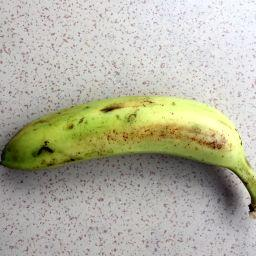Banana Ripe: (4, 90, 256, 228)
